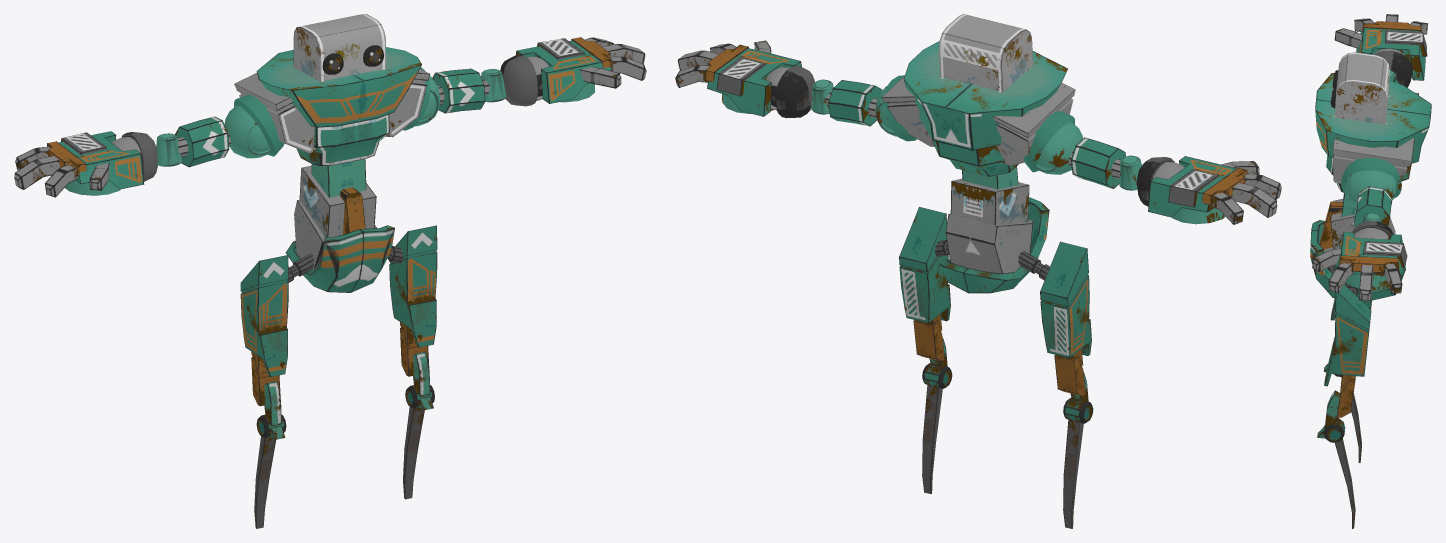
Rendered from stan.glb.
The picture shows the model from 3 angles, left to right: view 1: azimuth 30°, elevation 25°; view 2: azimuth 150°, elevation 25°; view 3: azimuth 270°, elevation 25°; orthographic projection. The views are drawn at different scales.
Visible parts, largest first — view 1: Stan; view 2: Stan; view 3: Stan.
Boxes of the visible parts, box(x1,y1,x2,y2) form: Stan: box(14, 14, 646, 528); Stan: box(675, 14, 1281, 528); Stan: box(1310, 14, 1431, 528).
Bounding box in the file's own units: 8.54 × 6.5 × 1.65.
Materials: 1 (1 with a texture image).
